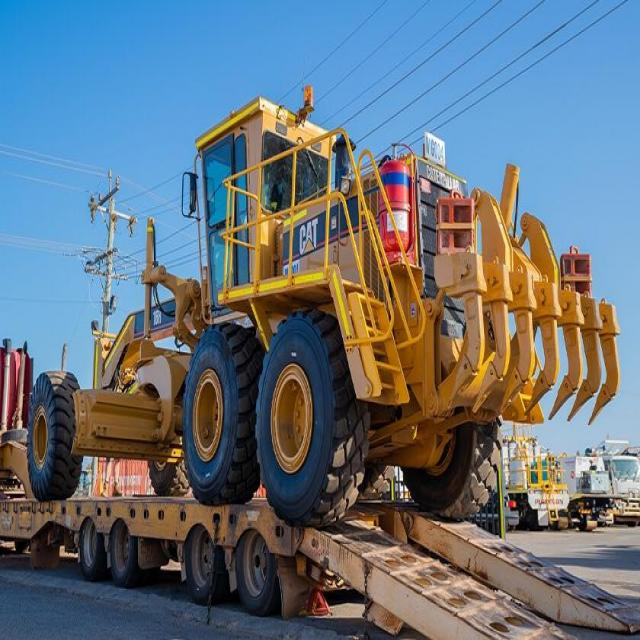Grader: (11, 81, 614, 517)
